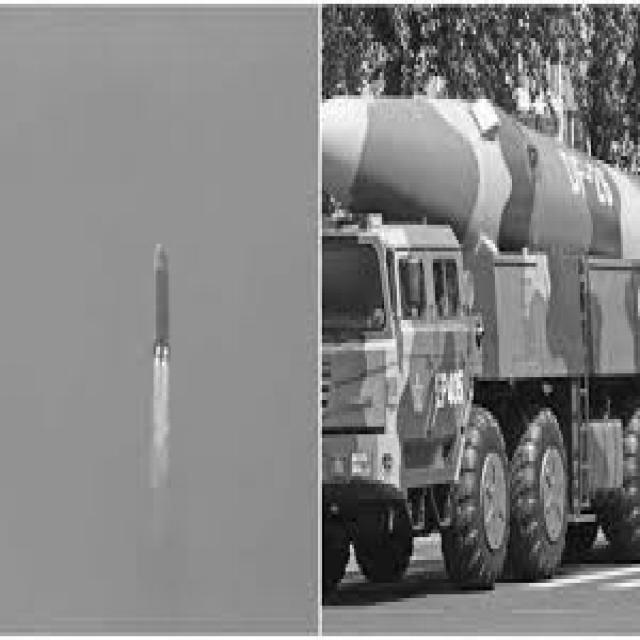missile: (149, 239, 175, 372)
